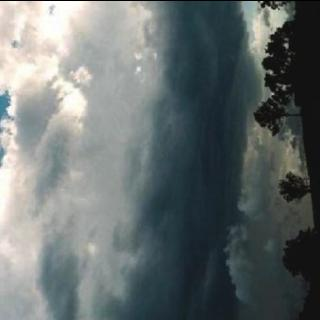Stratus: (0, 0, 262, 320)
